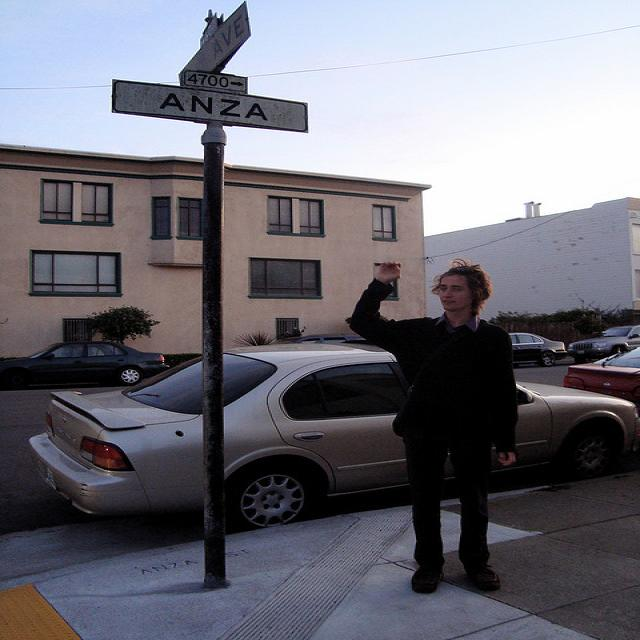Vehicle: (30, 342, 640, 526), (0, 341, 168, 386), (557, 346, 640, 398), (567, 326, 640, 363), (509, 333, 568, 367), (270, 334, 366, 344)
